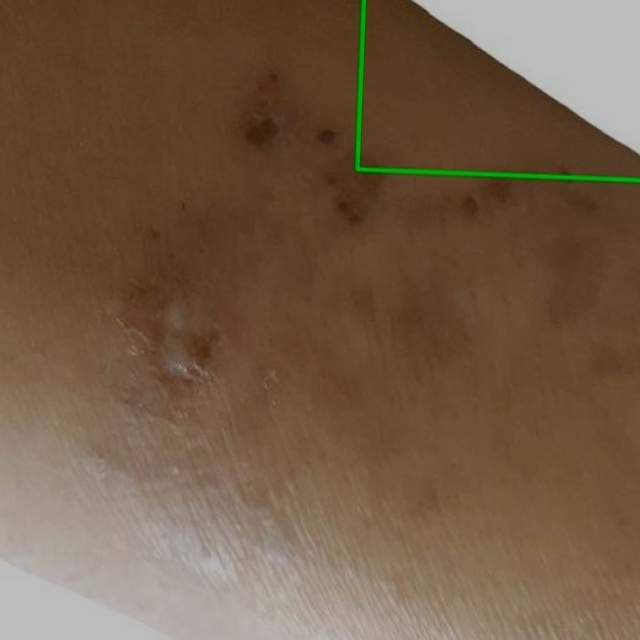Scabies: (357, 0, 639, 180)
